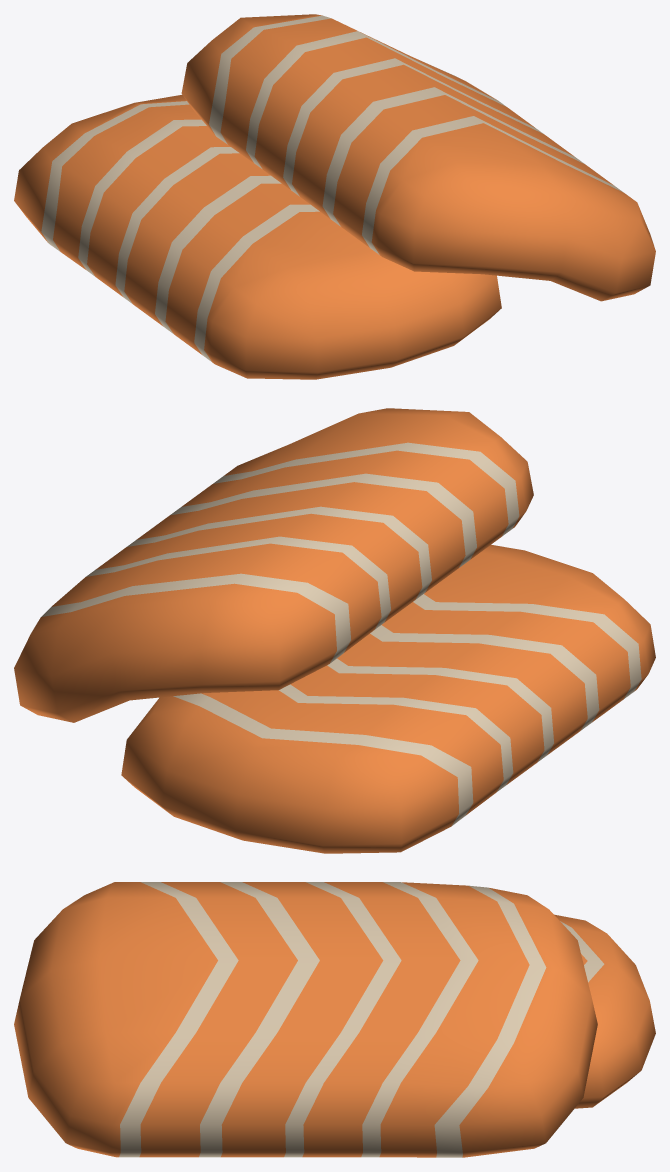
The model's file is salmon.glb.
3 renders of one model, top to bottom at view 1: azimuth 30°, elevation 25°; view 2: azimuth 150°, elevation 25°; view 3: azimuth 270°, elevation 25°, orthographic. The views are drawn at different scales.
Visible parts, largest first — view 1: FoodIngredient_Salmon; view 2: FoodIngredient_Salmon; view 3: FoodIngredient_Salmon.
Boxes of the visible parts, x1,y1,x2,y2 form: FoodIngredient_Salmon: (14,14,655,379); FoodIngredient_Salmon: (14,408,655,853); FoodIngredient_Salmon: (14,882,655,1157).
Bounding box in the file's own units: 0.6622 × 0.2796 × 0.8608.
1 material, 1 textured.
